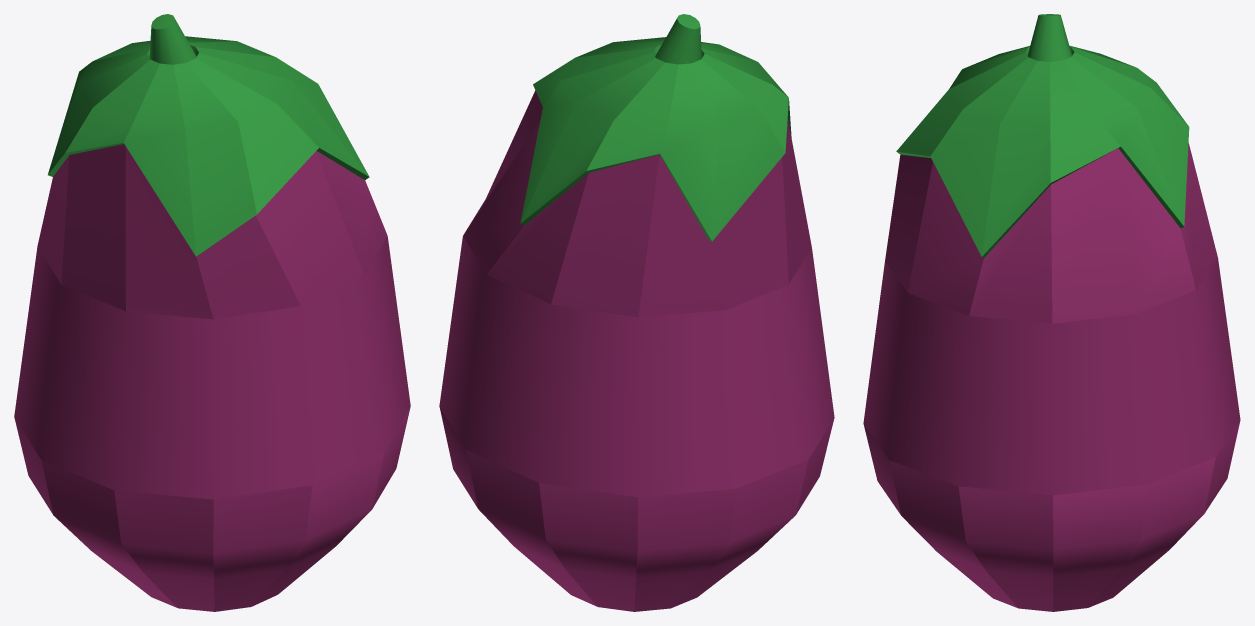
The model's file is Aubergine.FBX.
3 renders of one model, left to right at view 1: azimuth 30°, elevation 25°; view 2: azimuth 150°, elevation 25°; view 3: azimuth 270°, elevation 25°, orthographic. The views are drawn at different scales.
Visible parts, largest first — view 1: pCylinder1; view 2: pCylinder1; view 3: pCylinder1.
Boxes of the visible parts, x1,y1,x2,y2 form: pCylinder1: (14,14,410,611); pCylinder1: (439,14,834,611); pCylinder1: (863,14,1240,611).
Bounding box in the file's own units: 3.86 × 6.44 × 3.86.
